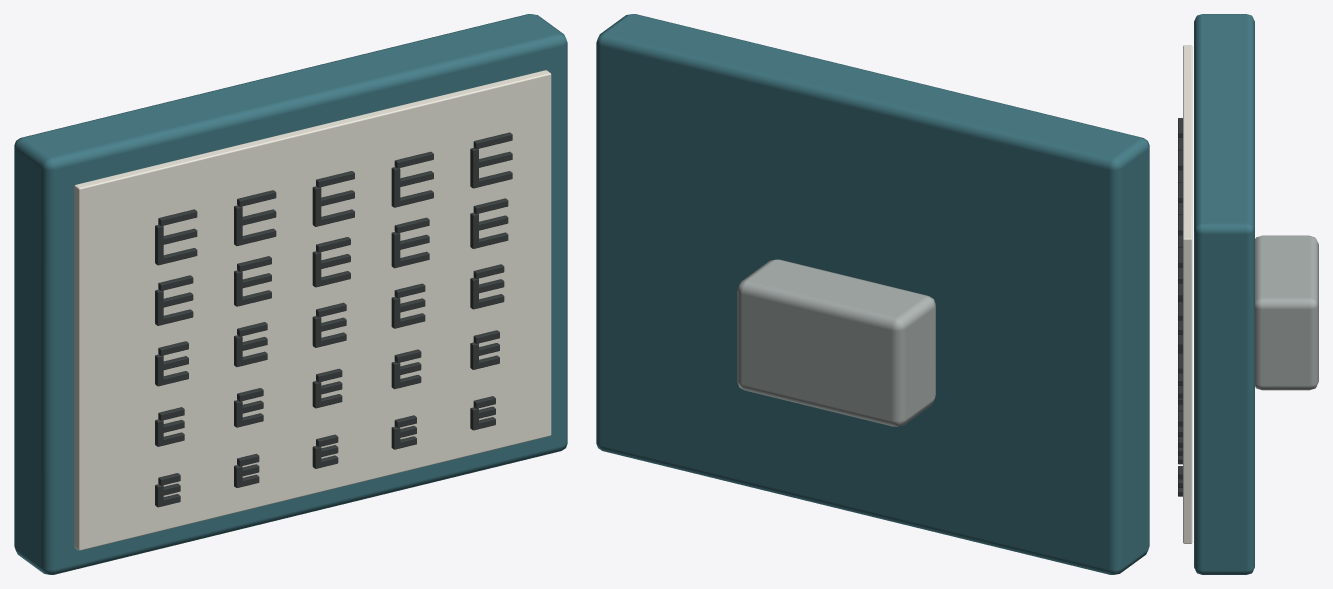
File: optician-and-optical-lens-workshop-optician-and-optica-3a9f35ce__31675.glb
The picture shows the model from 3 angles, left to right: view 1: azimuth 30°, elevation 25°; view 2: azimuth 150°, elevation 25°; view 3: azimuth 270°, elevation 25°; orthographic projection. The views are drawn at different scales.
Visible parts, largest first — view 1: optician-and-optical-lens-workshop-visual-chart-display; view 2: optician-and-optical-lens-workshop-visual-chart-display; view 3: optician-and-optical-lens-workshop-visual-chart-display.
Part boxes in pixels (x1,y1,x2,y2): optician-and-optical-lens-workshop-visual-chart-display: [14, 14, 567, 574]; optician-and-optical-lens-workshop-visual-chart-display: [596, 14, 1149, 574]; optician-and-optical-lens-workshop-visual-chart-display: [1178, 14, 1318, 574].
Bounding box in the file's own units: 0.5 × 0.38 × 0.138.
